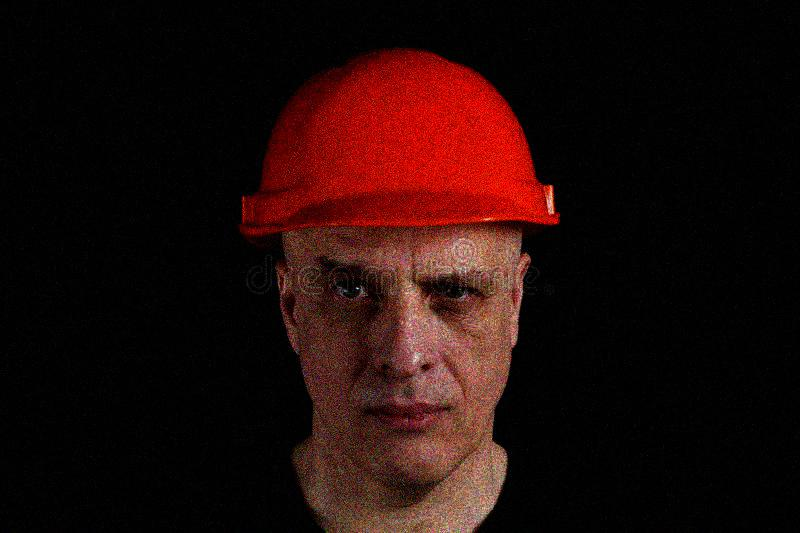helmet: (236, 45, 558, 490)
